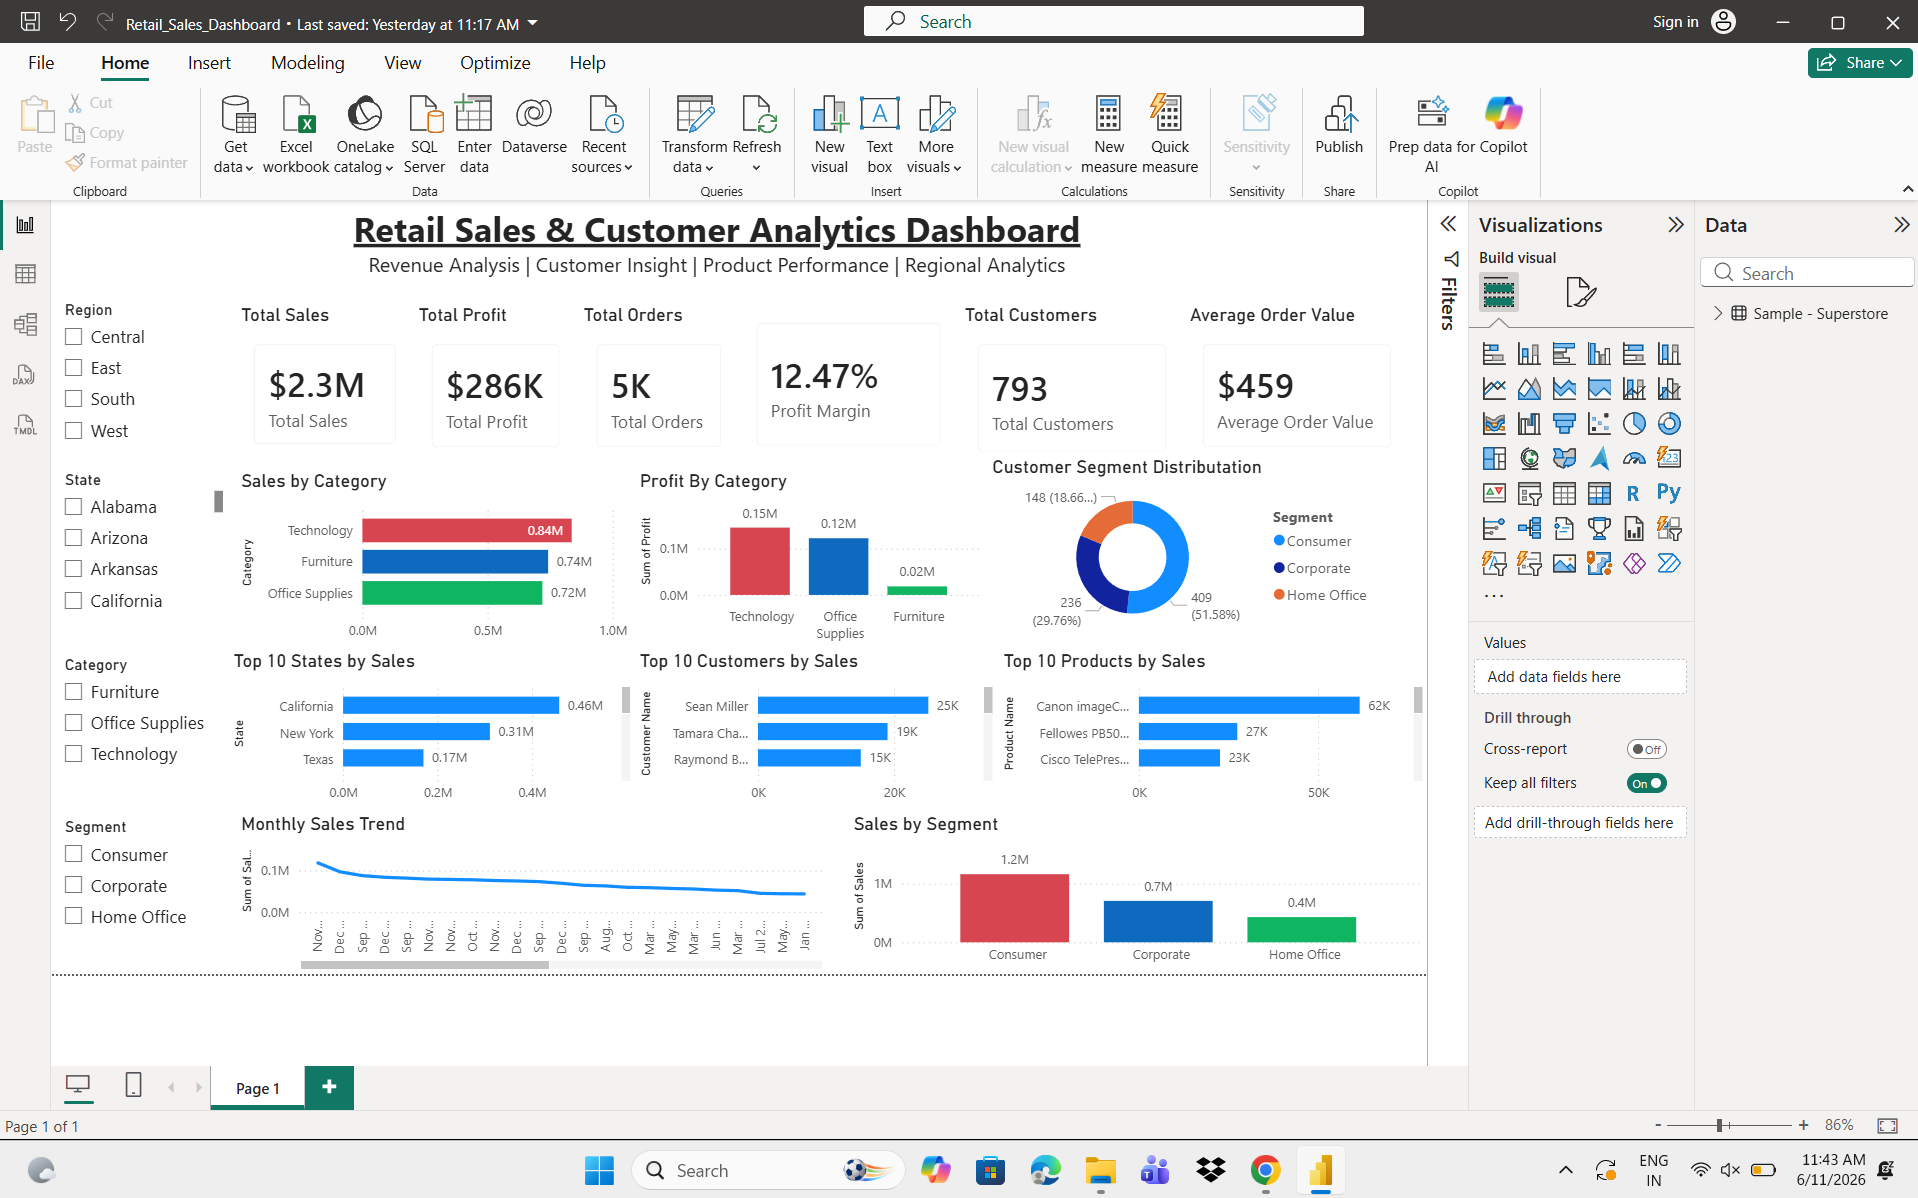

The dashboard page shown, as its layout file describes it:
{"tool":"powerbi","page":{"name":"Page 1","canvas":[1280,720],"ordinal":0},"visuals":[{"type":"cardVisual","title":"Total Sales","fields":{"Data":["Sample - Superstore.Total Sales"]},"box":[171.5,96.1,166,148.2],"z":0},{"type":"cardVisual","title":"Total Profit","fields":{"Data":["Sample - Superstore.Total Profit"]},"box":[337.6,96.1,153.7,150.9],"z":1000},{"type":"cardVisual","title":"Total Orders","fields":{"Data":["Sample - Superstore.Total Orders"]},"box":[491.3,96.1,150.9,150.9],"z":2000},{"type":"cardVisual","title":"Total Customers","fields":{"Data":["Sample - Superstore.Total Customers"]},"box":[845.3,96.1,209.9,155.1],"z":3000},{"type":"cardVisual","title":"Average Order Value","fields":{"Data":["Sample - Superstore.Average Order Value"]},"box":[1055.2,96.1,209.9,150.9],"z":4000},{"type":"slicer","fields":{"Values":["Sample - Superstore.Region"]},"box":[0,87.8,164.7,150.9],"z":5000},{"type":"slicer","fields":{"Values":["Sample - Superstore.State"]},"box":[0,247,164.7,150.9],"z":6000},{"type":"slicer","fields":{"Values":["Sample - Superstore.Category"]},"box":[0,418.5,164.7,150.9],"z":7000},{"type":"slicer","fields":{"Values":["Sample - Superstore.Segment"]},"box":[0,569.5,164.7,150.9],"z":8000},{"type":"clusteredBarChart","title":"Sales by Category","fields":{"Category":["Sample - Superstore.Category"],"Y":["Sum(Sample - Superstore.Sales)"]},"box":[171.5,251.1,371.9,167.4],"z":9000},{"type":"clusteredColumnChart","title":"Profit By Category","fields":{"Category":["Sample - Superstore.Category"],"Y":["Sum(Sample - Superstore.Profit)"]},"box":[543.4,251.1,328,167.4],"z":10000},{"type":"clusteredBarChart","title":"Top 10 States by Sales","fields":{"Category":["Sample - Superstore.State"],"Y":["Sum(Sample - Superstore.Sales)"]},"box":[164.7,418.5,378.7,150.9],"z":11000},{"type":"clusteredBarChart","title":"Top 10 Customers by Sales","fields":{"Category":["Sample - Superstore.Customer Name"],"Y":["Sum(Sample - Superstore.Sales)"]},"box":[543.4,418.5,337.6,150.9],"z":12000},{"type":"clusteredBarChart","title":"Top 10 Products by Sales","fields":{"Category":["Sample - Superstore.Product Name"],"Y":["Sum(Sample - Superstore.Sales)"]},"box":[881,418.5,399.3,150.9],"z":13000},{"type":"lineChart","title":"Monthly Sales Trend","fields":{"Category":["Sample - Superstore.Month Year"],"Y":["Sum(Sample - Superstore.Sales)"]},"box":[171.5,569.5,550.3,150.9],"z":14000},{"type":"donutChart","title":"Customer Segment Distributation","fields":{"Category":["Sample - Superstore.Segment"],"Y":["Count(Sample - Superstore.Customer ID)"]},"box":[871.4,238.8,367.8,167.4],"z":15000},{"type":"textbox","box":[0,0,1239.1,96.1],"z":16000},{"type":"cardVisual","fields":{"Data":["Sample - Superstore.Profit Margin"]},"box":[639.5,97.4,205.8,148.2],"z":17000},{"type":"clusteredColumnChart","title":"Sales by Segment","fields":{"Category":["Sample - Superstore.Segment"],"Y":["Sum(Sample - Superstore.Sales)"]},"box":[742.4,569.5,536.5,150.9],"z":18000}]}

Visuals, with their boxes on the page's 1280x720 design canvas (x1, y1, x2, y2). These are canvas units, not pixel positions in the 1918x1198 screenshot, which may show the page scaled, cropped or inside an application window:
"Total Sales" cardVisual: l=172, t=96, r=338, b=244
"Total Profit" cardVisual: l=338, t=96, r=491, b=247
"Total Orders" cardVisual: l=491, t=96, r=642, b=247
"Total Customers" cardVisual: l=845, t=96, r=1055, b=251
"Average Order Value" cardVisual: l=1055, t=96, r=1265, b=247
slicer - Sample - Superstore.Region: l=0, t=88, r=165, b=239
slicer - Sample - Superstore.State: l=0, t=247, r=165, b=398
slicer - Sample - Superstore.Category: l=0, t=418, r=165, b=569
slicer - Sample - Superstore.Segment: l=0, t=570, r=165, b=720
"Sales by Category" clusteredBarChart: l=172, t=251, r=543, b=418
"Profit By Category" clusteredColumnChart: l=543, t=251, r=871, b=418
"Top 10 States by Sales" clusteredBarChart: l=165, t=418, r=543, b=569
"Top 10 Customers by Sales" clusteredBarChart: l=543, t=418, r=881, b=569
"Top 10 Products by Sales" clusteredBarChart: l=881, t=418, r=1280, b=569
"Monthly Sales Trend" lineChart: l=172, t=570, r=722, b=720
"Customer Segment Distributation" donutChart: l=871, t=239, r=1239, b=406
textbox: l=0, t=0, r=1239, b=96
cardVisual - Sample - Superstore.Profit Margin: l=640, t=97, r=845, b=246
"Sales by Segment" clusteredColumnChart: l=742, t=570, r=1279, b=720
